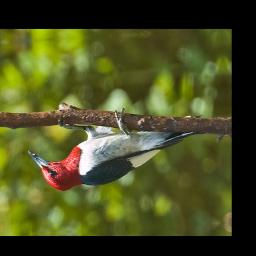Woodpecker: (28, 104, 204, 194)
